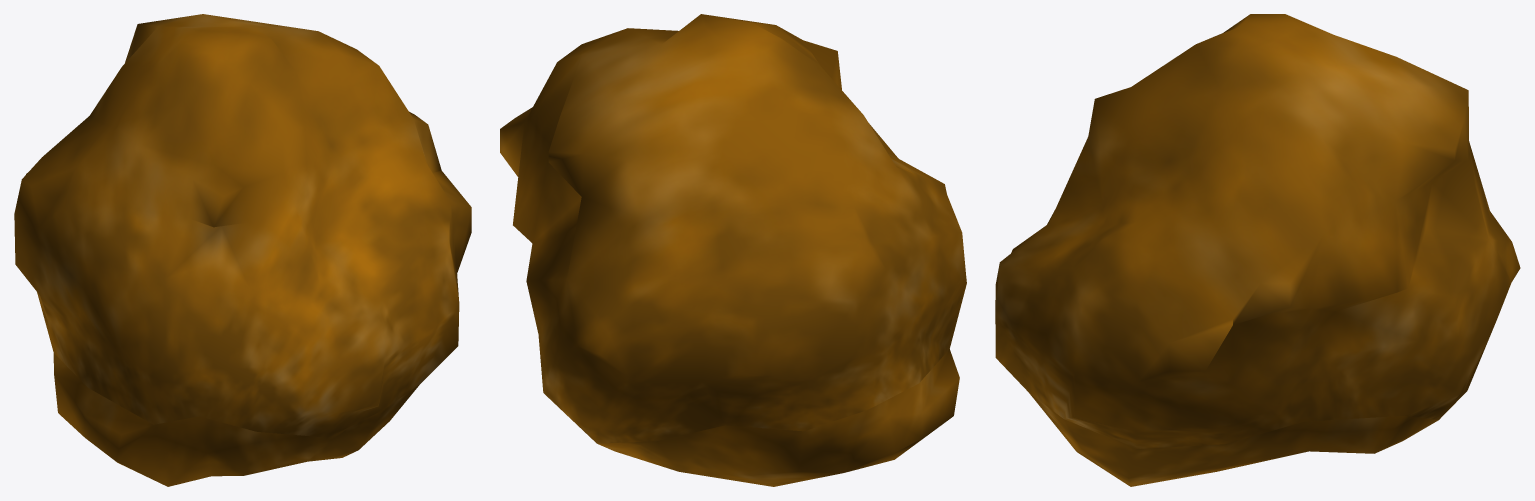
The model's file is rocky2.fbx.
3 views of the same model, side by side, from view 1: azimuth 30°, elevation 25°; view 2: azimuth 150°, elevation 25°; view 3: azimuth 270°, elevation 25° (orthographic). The views are drawn at different scales.
Visible parts, largest first — view 1: Icosphere; view 2: Icosphere; view 3: Icosphere.
Boxes of the visible parts, x1,y1,x2,y2 form: Icosphere: (14,14,471,486); Icosphere: (500,14,966,486); Icosphere: (995,14,1520,486).
Bounding box in the file's own units: 3.54 × 3.57 × 3.99.
